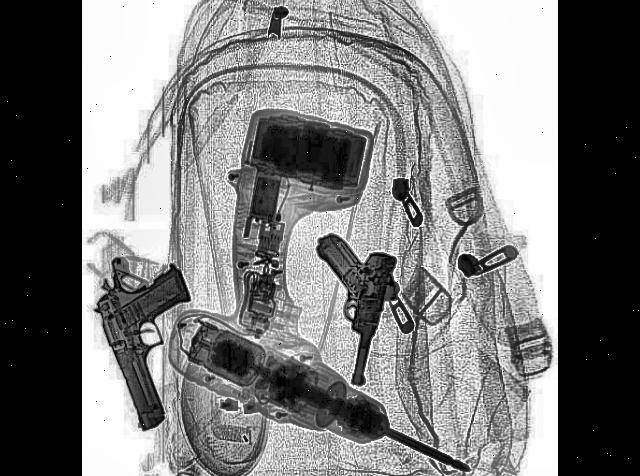Gun: (89, 228, 223, 439), (292, 218, 398, 390)
